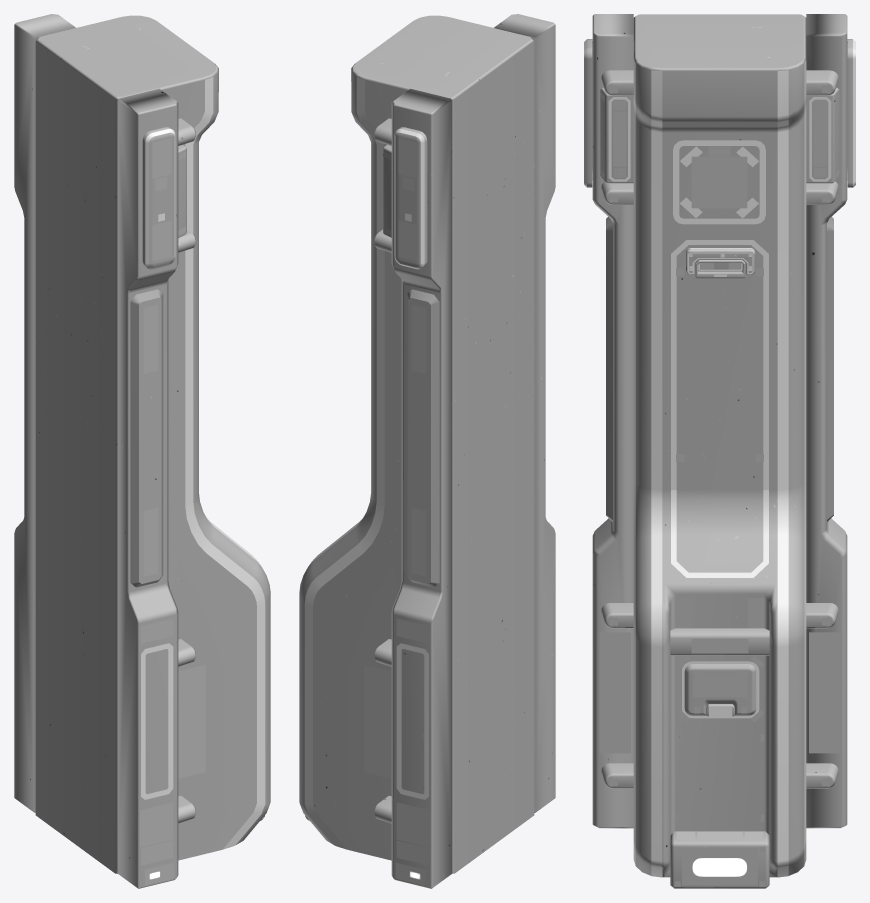
The model's file is SM_InteriorColumn_Merged.fbx.
3 views of the same model, side by side, from view 1: azimuth 30°, elevation 25°; view 2: azimuth 150°, elevation 25°; view 3: azimuth 270°, elevation 25° (orthographic). The views are drawn at different scales.
Parts seen in each view (by area): view 1: SM_InteriorColumn_Merged_LOD0; view 2: SM_InteriorColumn_Merged_LOD0; view 3: SM_InteriorColumn_Merged_LOD0.
Part boxes in pixels (x1,y1,x2,y2): SM_InteriorColumn_Merged_LOD0: (14,14,270,888); SM_InteriorColumn_Merged_LOD0: (299,14,555,888); SM_InteriorColumn_Merged_LOD0: (584,14,855,888).
Size of the model in its own units: 78.95 by 109 by 350.
